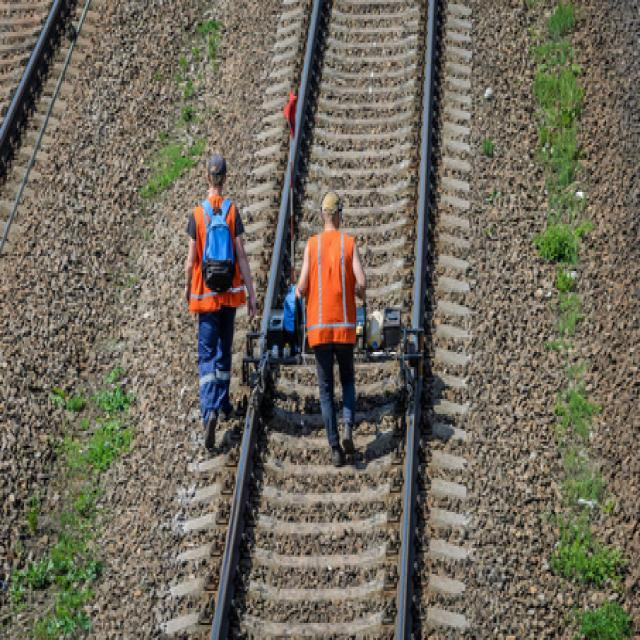people: (293, 188, 370, 472), (183, 146, 253, 453)
